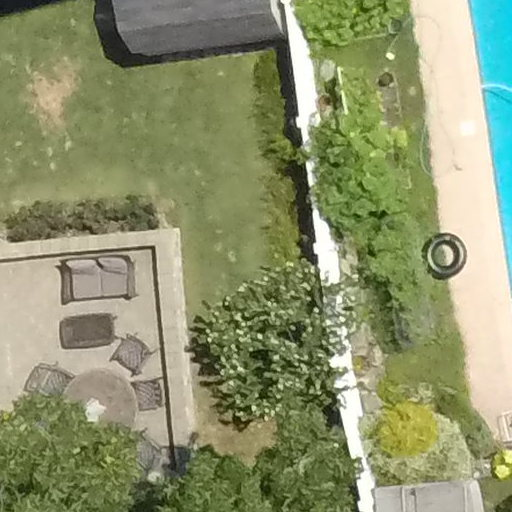flower pot: (373, 71, 393, 86)
